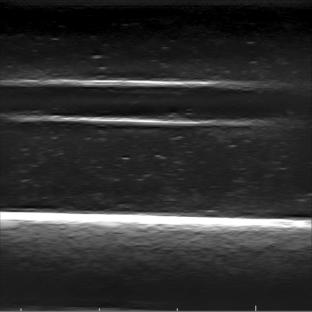vessel: (4, 78, 304, 128)
